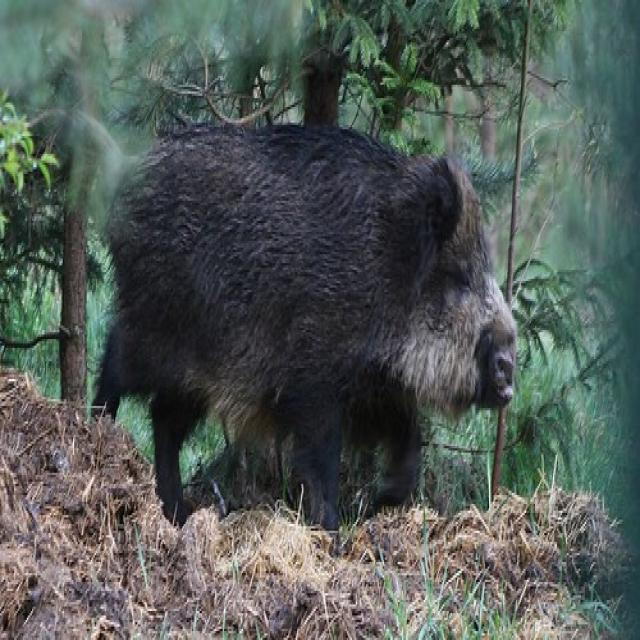boar: (75, 100, 531, 547)
